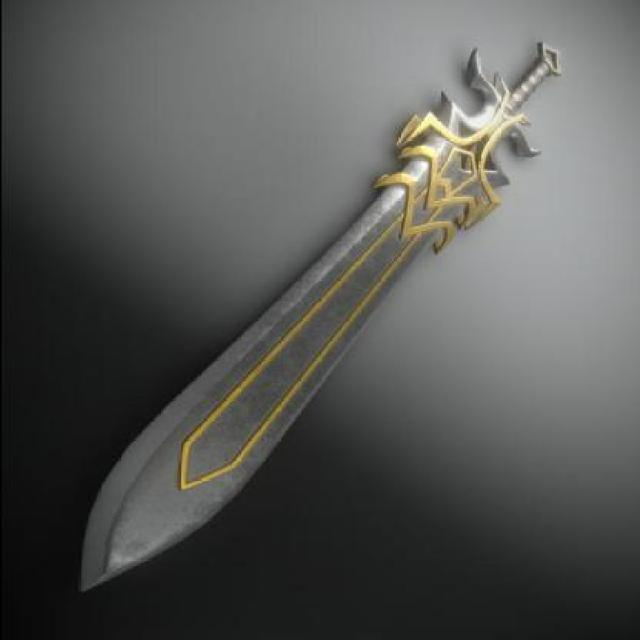weapon: (76, 39, 562, 593)
